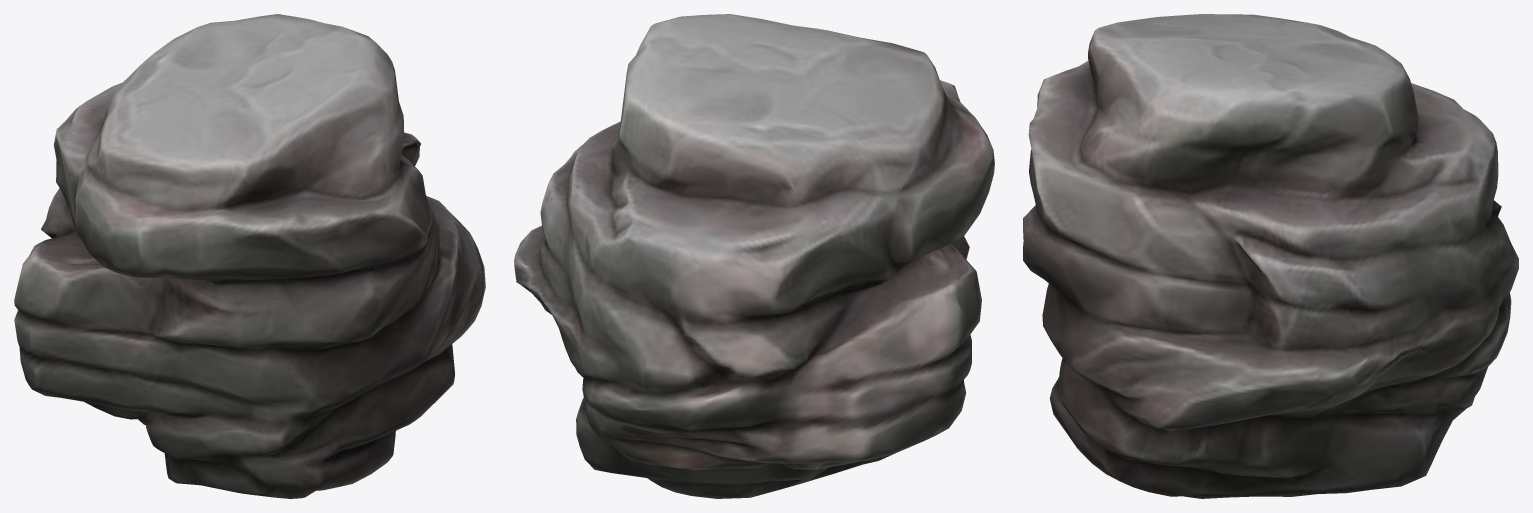
Rendered from sp-fels-1.glb.
3 views of the same model, side by side, from view 1: azimuth 30°, elevation 25°; view 2: azimuth 150°, elevation 25°; view 3: azimuth 270°, elevation 25° (orthographic). The views are drawn at different scales.
Parts seen in each view (by area): view 1: sp-fels-1; view 2: sp-fels-1; view 3: sp-fels-1.
Part boxes in pixels (<box>): sp-fels-1: <box>14,14,485,498</box>; sp-fels-1: <box>514,14,994,498</box>; sp-fels-1: <box>1023,14,1518,498</box>.
Size of the model in its own units: 4.27 by 3.77 by 3.99.
Materials: 1 (1 with a texture image).
